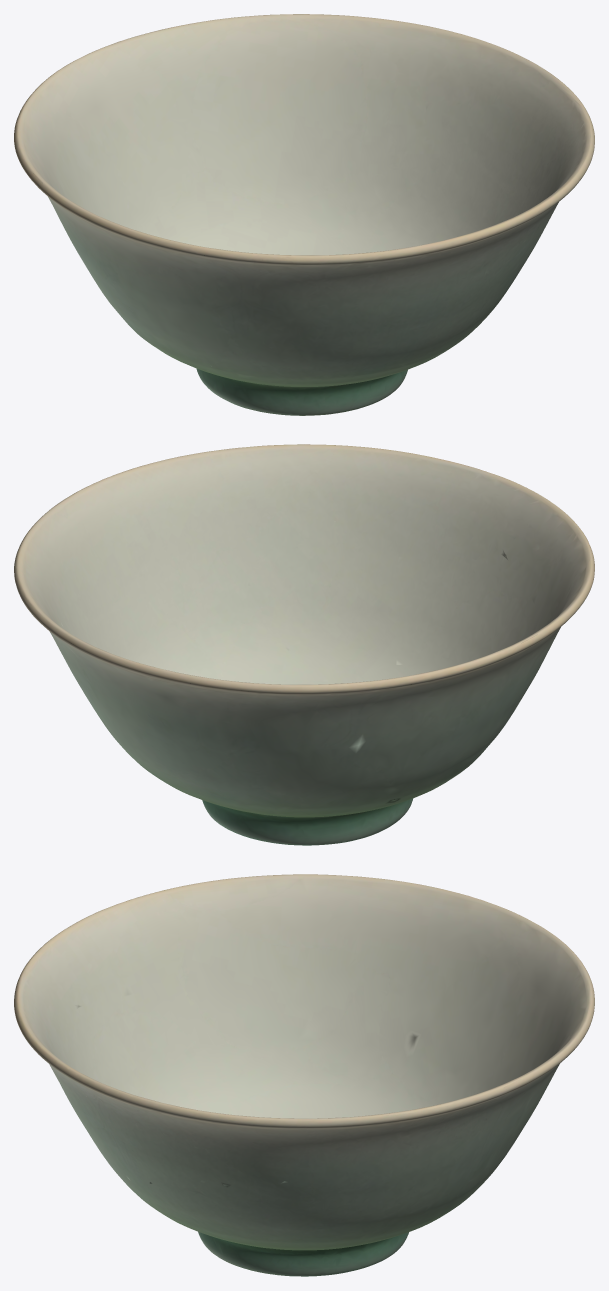
Rendered from linglong.glb.
3 renders of one model, top to bottom at view 1: azimuth 30°, elevation 25°; view 2: azimuth 150°, elevation 25°; view 3: azimuth 270°, elevation 25°, orthographic.
Visible parts, largest first — view 1: node_0; view 2: node_0; view 3: node_0.
Boxes of the visible parts, x1,y1,x2,y2 form: node_0: [14, 14, 594, 415]; node_0: [14, 444, 594, 845]; node_0: [14, 874, 594, 1276].
Size of the model in its own units: 1.09 by 0.4999 by 1.09.
1 material, 1 textured.
